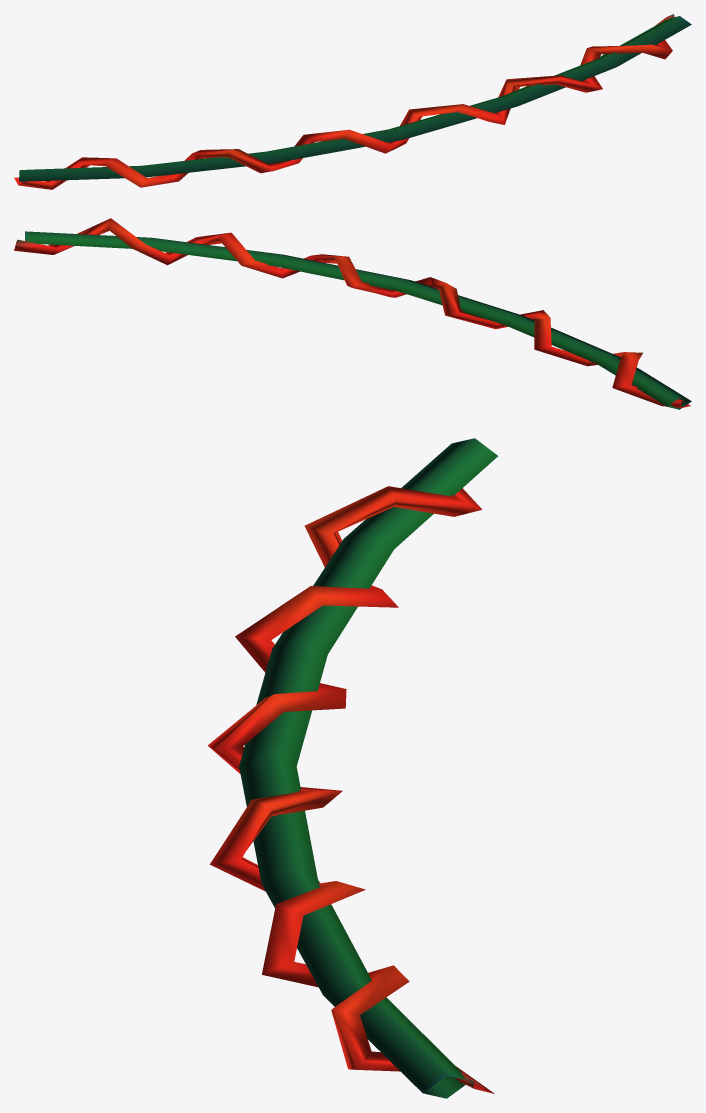
Rendered from Garland_D.fbx.
3 views of the same model, one above another, from view 1: azimuth 30°, elevation 25°; view 2: azimuth 150°, elevation 25°; view 3: azimuth 270°, elevation 25° (orthographic). The views are drawn at different scales.
Visible parts, largest first — view 1: Garland_D; view 2: Garland_D; view 3: Garland_D.
Boxes of the visible parts, <box> form: Garland_D: <box>14,14,691,189</box>; Garland_D: <box>14,218,691,409</box>; Garland_D: <box>208,438,497,1098</box>.
Bounding box in the file's own units: 73.77 × 2.95 × 13.95.
